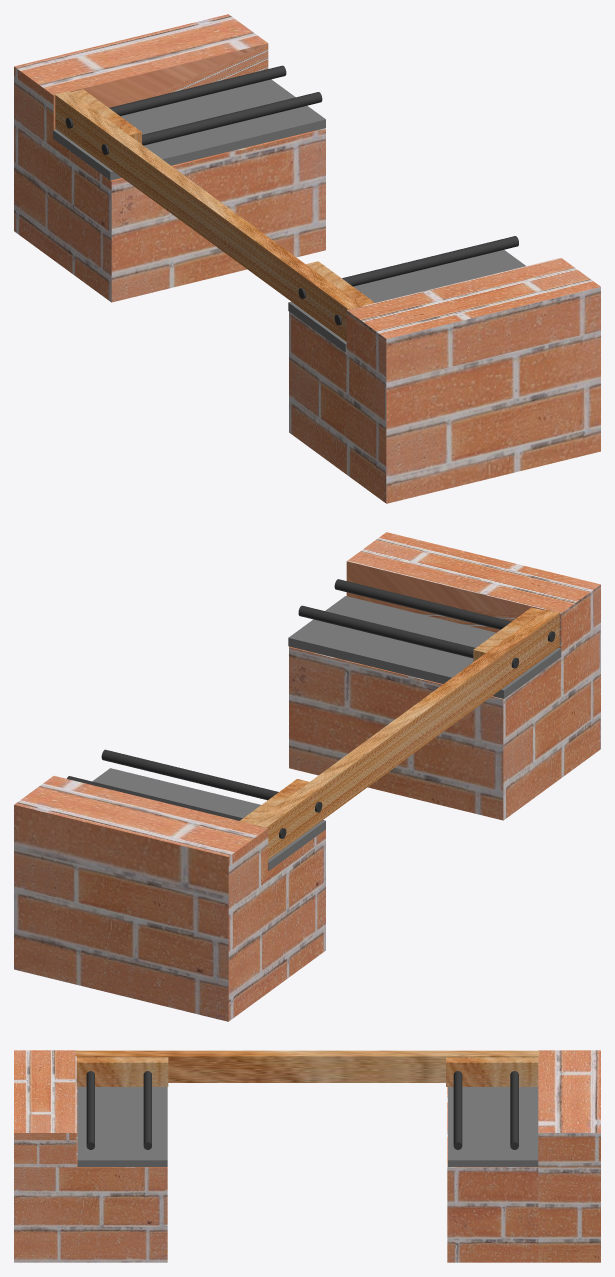
File: longchair2.gltf
3 views of the same model, one above another, from view 1: azimuth 30°, elevation 25°; view 2: azimuth 150°, elevation 25°; view 3: azimuth 270°, elevation 25° (orthographic). The views are drawn at different scales.
Visible parts, largest first — view 1: Cube, Cube.002, 立方体, 立方体.004, 立方体.003, 柱体.002, 柱体.003, 柱体.001, 立方体.002, 立方体.001; view 2: Cube.002, Cube, 立方体, 立方体.003, 立方体.004, 柱体.001, 柱体.002, 柱体, 立方体.001, 柱体.003, 立方体.002; view 3: Cube, Cube.002, 立方体, 立方体.003, 立方体.004, 立方体.001, 立方体.002, 柱体.002, 柱体.003, 柱体, 柱体.001.
Part boxes in pixels (x1,y1,x2,y2): Cube: [289, 258, 600, 503]; Cube.002: [14, 14, 325, 302]; 立方体: [55, 91, 362, 341]; 立方体.004: [53, 79, 325, 180]; 立方体.003: [288, 250, 525, 352]; 柱体.002: [101, 92, 322, 154]; 柱体.003: [65, 65, 286, 128]; 柱体.001: [298, 236, 518, 298]; 立方体.002: [71, 89, 141, 143]; 立方体.001: [306, 261, 374, 305]; Cube.002: [14, 776, 325, 1021]; Cube: [289, 532, 600, 820]; 立方体: [252, 609, 559, 859]; 立方体.003: [288, 596, 561, 698]; 立方体.004: [92, 768, 325, 870]; 柱体.001: [298, 605, 518, 668]; 柱体.002: [101, 749, 322, 812]; 柱体: [334, 579, 555, 642]; 立方体.001: [473, 607, 543, 661]; 柱体.003: [67, 776, 286, 838]; 立方体.002: [240, 779, 309, 823]; Cube: [14, 1050, 167, 1262]; Cube.002: [447, 1050, 600, 1262]; 立方体: [75, 1050, 539, 1082]; 立方体.003: [77, 1087, 167, 1166]; 立方体.004: [448, 1087, 538, 1166]; 立方体.001: [76, 1057, 168, 1086]; 立方体.002: [446, 1057, 538, 1086]; 柱体.002: [453, 1071, 462, 1149]; 柱体.003: [510, 1071, 518, 1149]; 柱体: [86, 1071, 94, 1149]; 柱体.001: [143, 1071, 151, 1149].
Bounding box in the file's own units: 2.21 × 1.61 × 6.61.
Materials: 4 (2 with a texture image).
